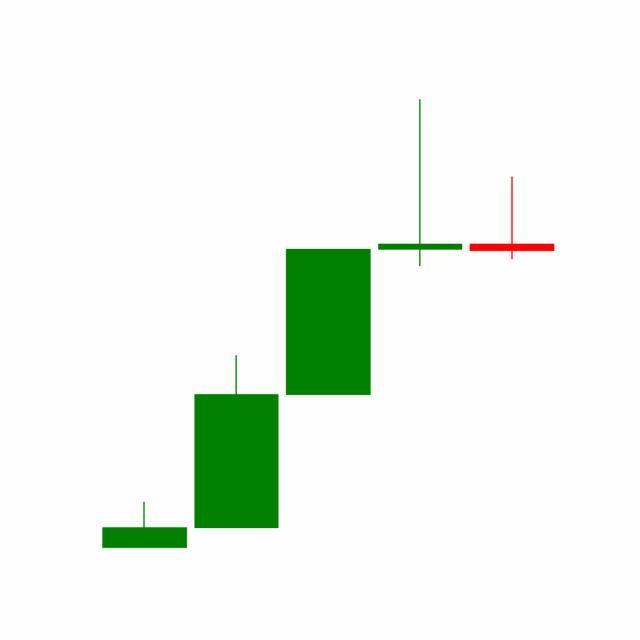Spinning Top: (374, 98, 468, 269)
